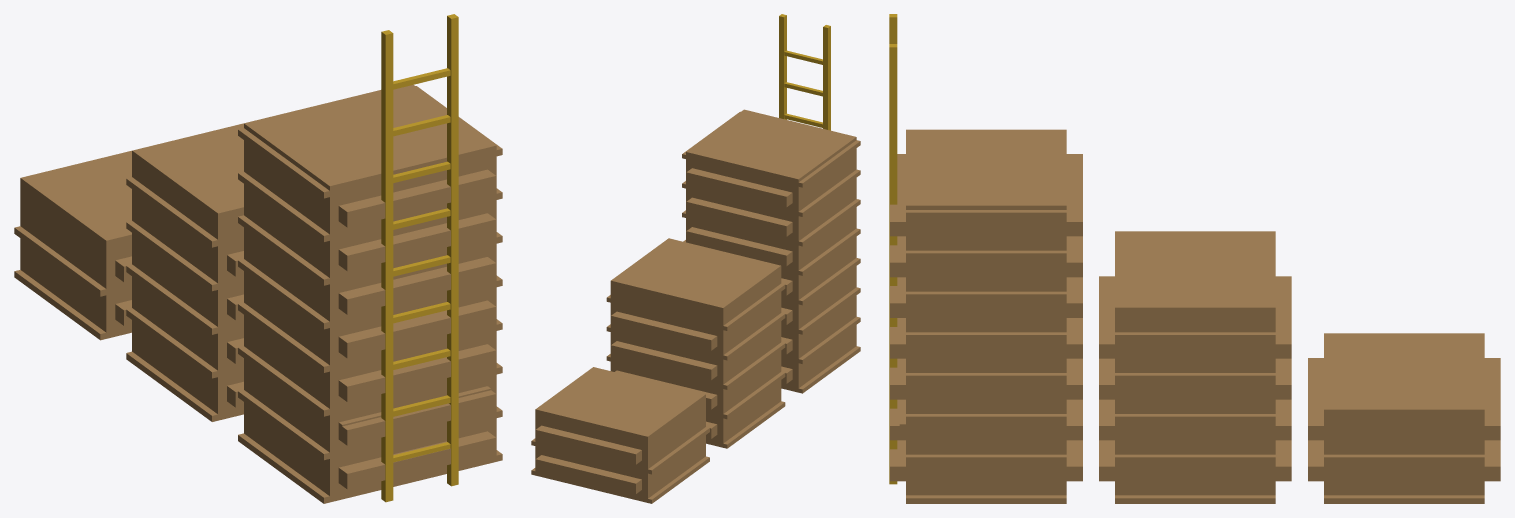
The model's file is pallet_stairs.glb.
The picture shows the model from 3 angles, left to right: view 1: azimuth 30°, elevation 25°; view 2: azimuth 150°, elevation 25°; view 3: azimuth 270°, elevation 25°; orthographic projection. The views are drawn at different scales.
Visible parts, largest first — view 1: pallet_stairs; view 2: pallet_stairs; view 3: pallet_stairs.
Boxes of the visible parts, x1,y1,x2,y2 form: pallet_stairs: (14, 14, 502, 503); pallet_stairs: (531, 14, 860, 503); pallet_stairs: (889, 14, 1500, 503).
Size of the model in its own units: 1.2 by 3 by 3.8.
